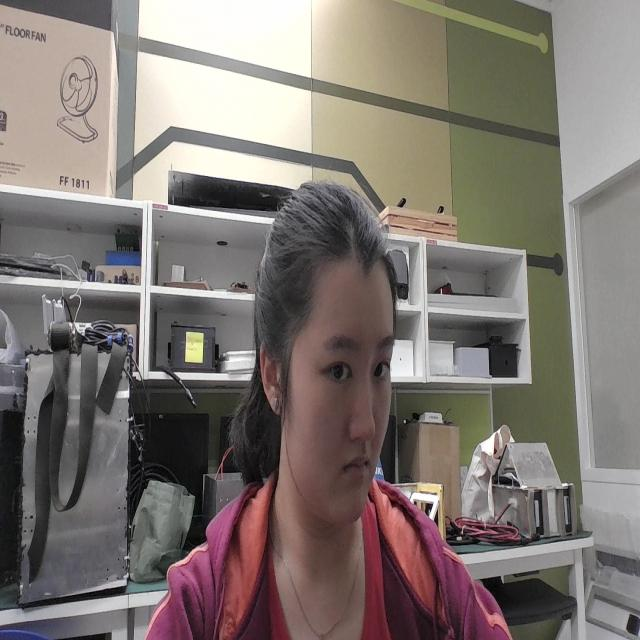Without Helmet: (221, 159, 458, 543)
